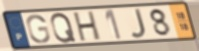1: (103, 8, 123, 42)
8: (149, 8, 173, 37)
G: (25, 14, 52, 45)
H: (73, 10, 102, 43)
J: (129, 7, 148, 40)
Q: (49, 11, 78, 44)
